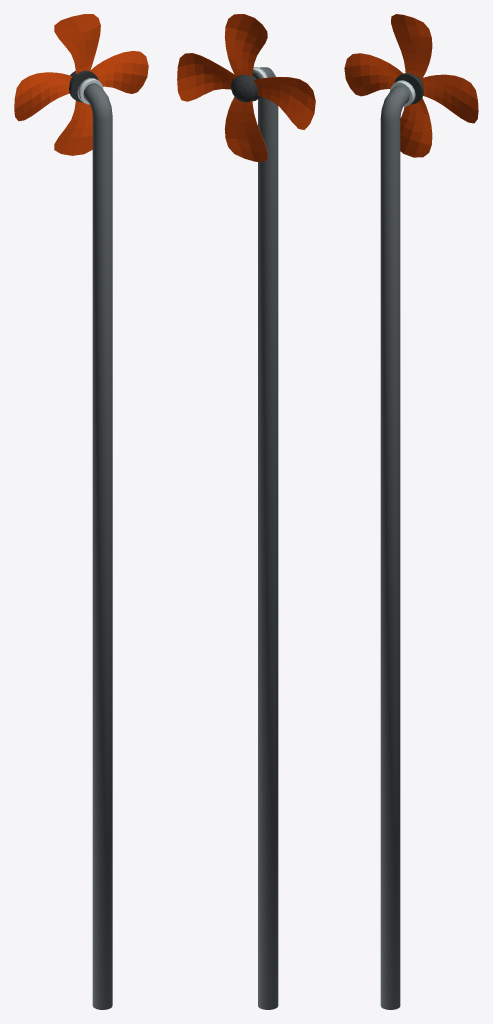
File: Fan-obstacle.fbx
The picture shows the model from 3 angles, left to right: view 1: azimuth 30°, elevation 25°; view 2: azimuth 150°, elevation 25°; view 3: azimuth 330°, elevation 25°; orthographic projection. The views are drawn at different scales.
Parts seen in each view (by area): view 1: Cylinder.001, Cylinder; view 2: Cylinder.001, Cylinder; view 3: Cylinder.001, Cylinder.
Part boxes in pixels (x1=…): Cylinder.001: x1=77, y1=78, x2=112, y2=1009; Cylinder: x1=14, y1=14, x2=148, y2=155; Cylinder.001: x1=253, y1=67, x2=278, y2=1009; Cylinder: x1=177, y1=14, x2=315, y2=162; Cylinder.001: x1=380, y1=80, x2=415, y2=1009; Cylinder: x1=344, y1=14, x2=478, y2=157.
Bounding box in the file's own units: 509 × 3549 × 218.
